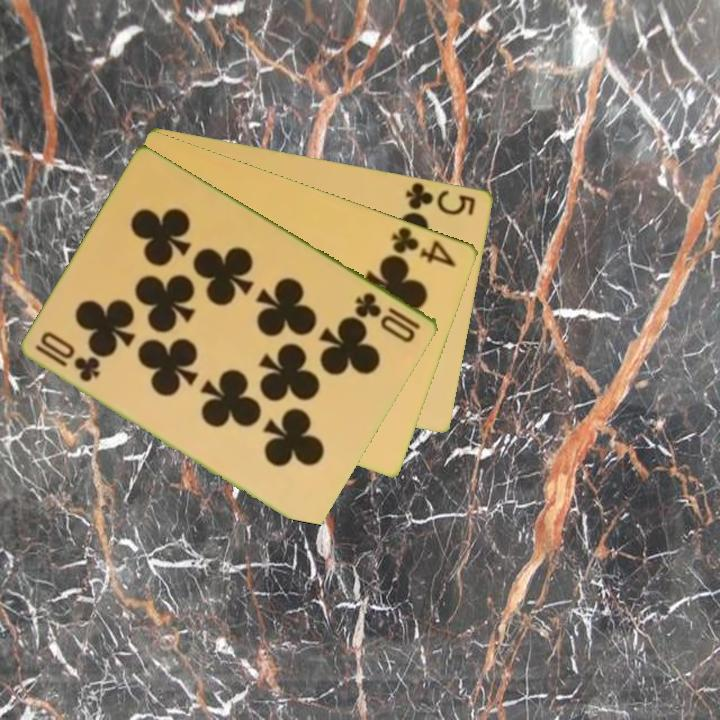10c: (352, 288, 424, 346), (32, 341, 104, 385)
4c: (389, 222, 460, 270)
5c: (402, 179, 479, 218)
